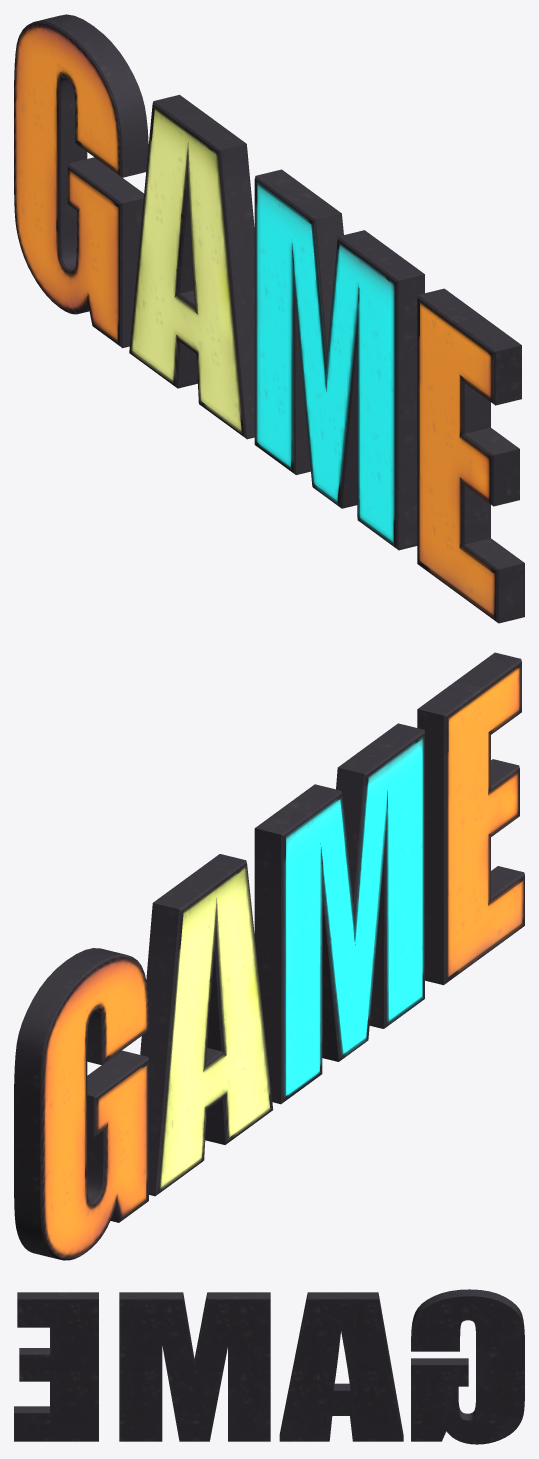
File: SM_GamesSigns_07.fbx
The picture shows the model from 3 angles, top to bottom: view 1: azimuth 30°, elevation 25°; view 2: azimuth 150°, elevation 25°; view 3: azimuth 270°, elevation 25°; orthographic projection. The views are drawn at different scales.
Parts seen in each view (by area): view 1: SM_GamesSigns_07_LOD0; view 2: SM_GamesSigns_07_LOD0; view 3: SM_GamesSigns_07_LOD0.
Part boxes in pixels (<box>): SM_GamesSigns_07_LOD0: <box>14,14,524,623</box>; SM_GamesSigns_07_LOD0: <box>14,652,524,1260</box>; SM_GamesSigns_07_LOD0: <box>14,1289,524,1444</box>.
Size of the model in its own units: 8.71 by 261 by 83.53.
1 material, 1 textured.
